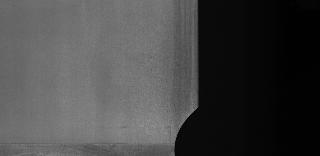welding line: (1, 139, 176, 147)
